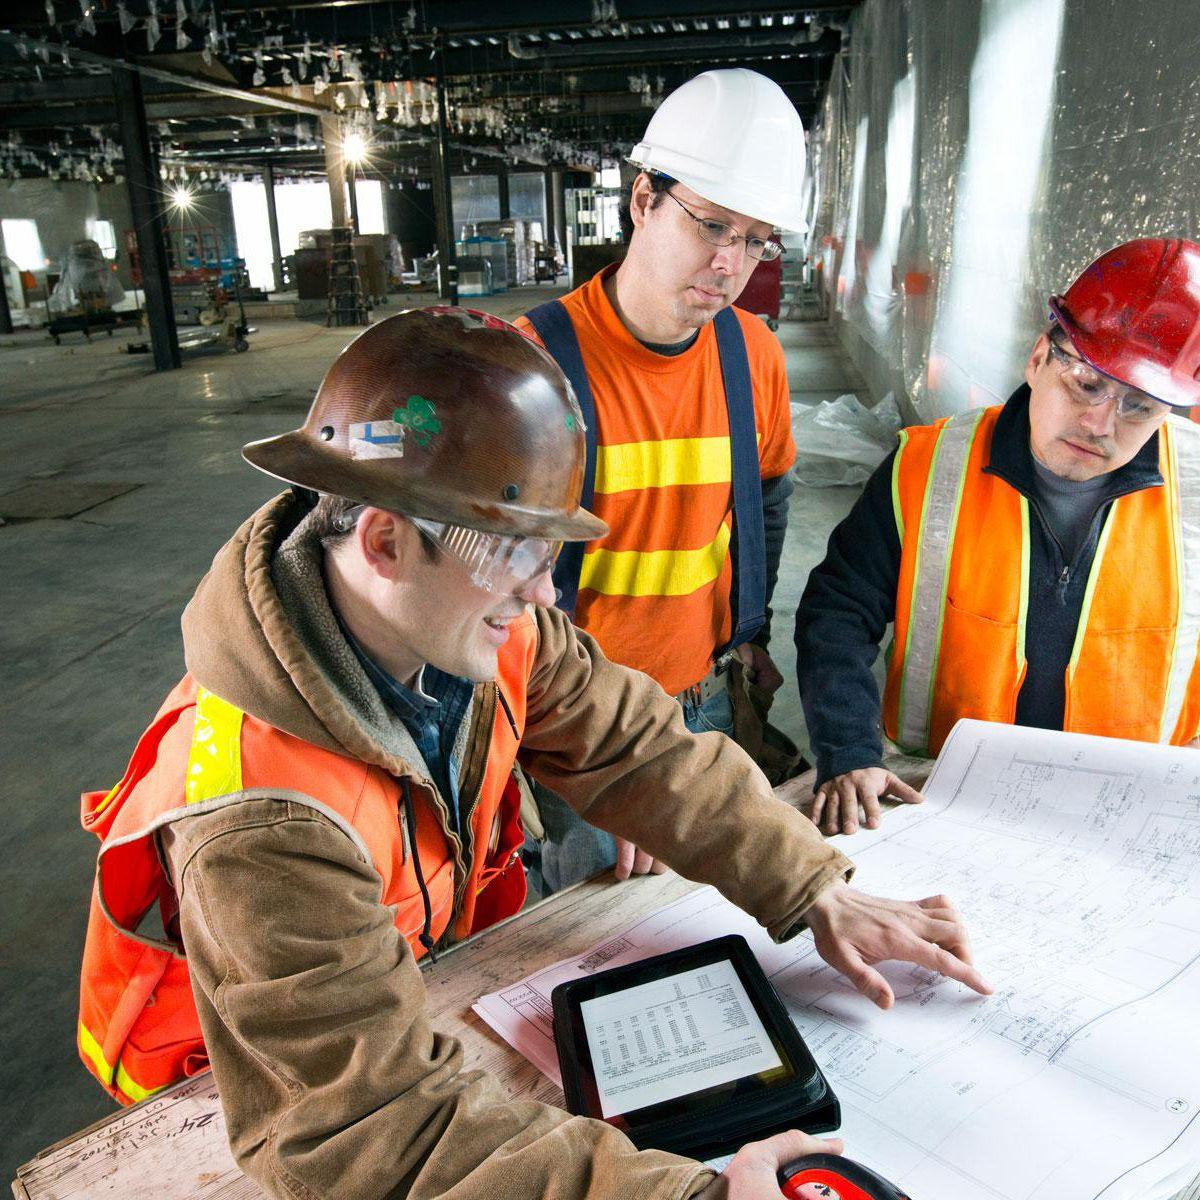helmet: (237, 299, 622, 559), (624, 69, 812, 242), (1042, 232, 1200, 414)
